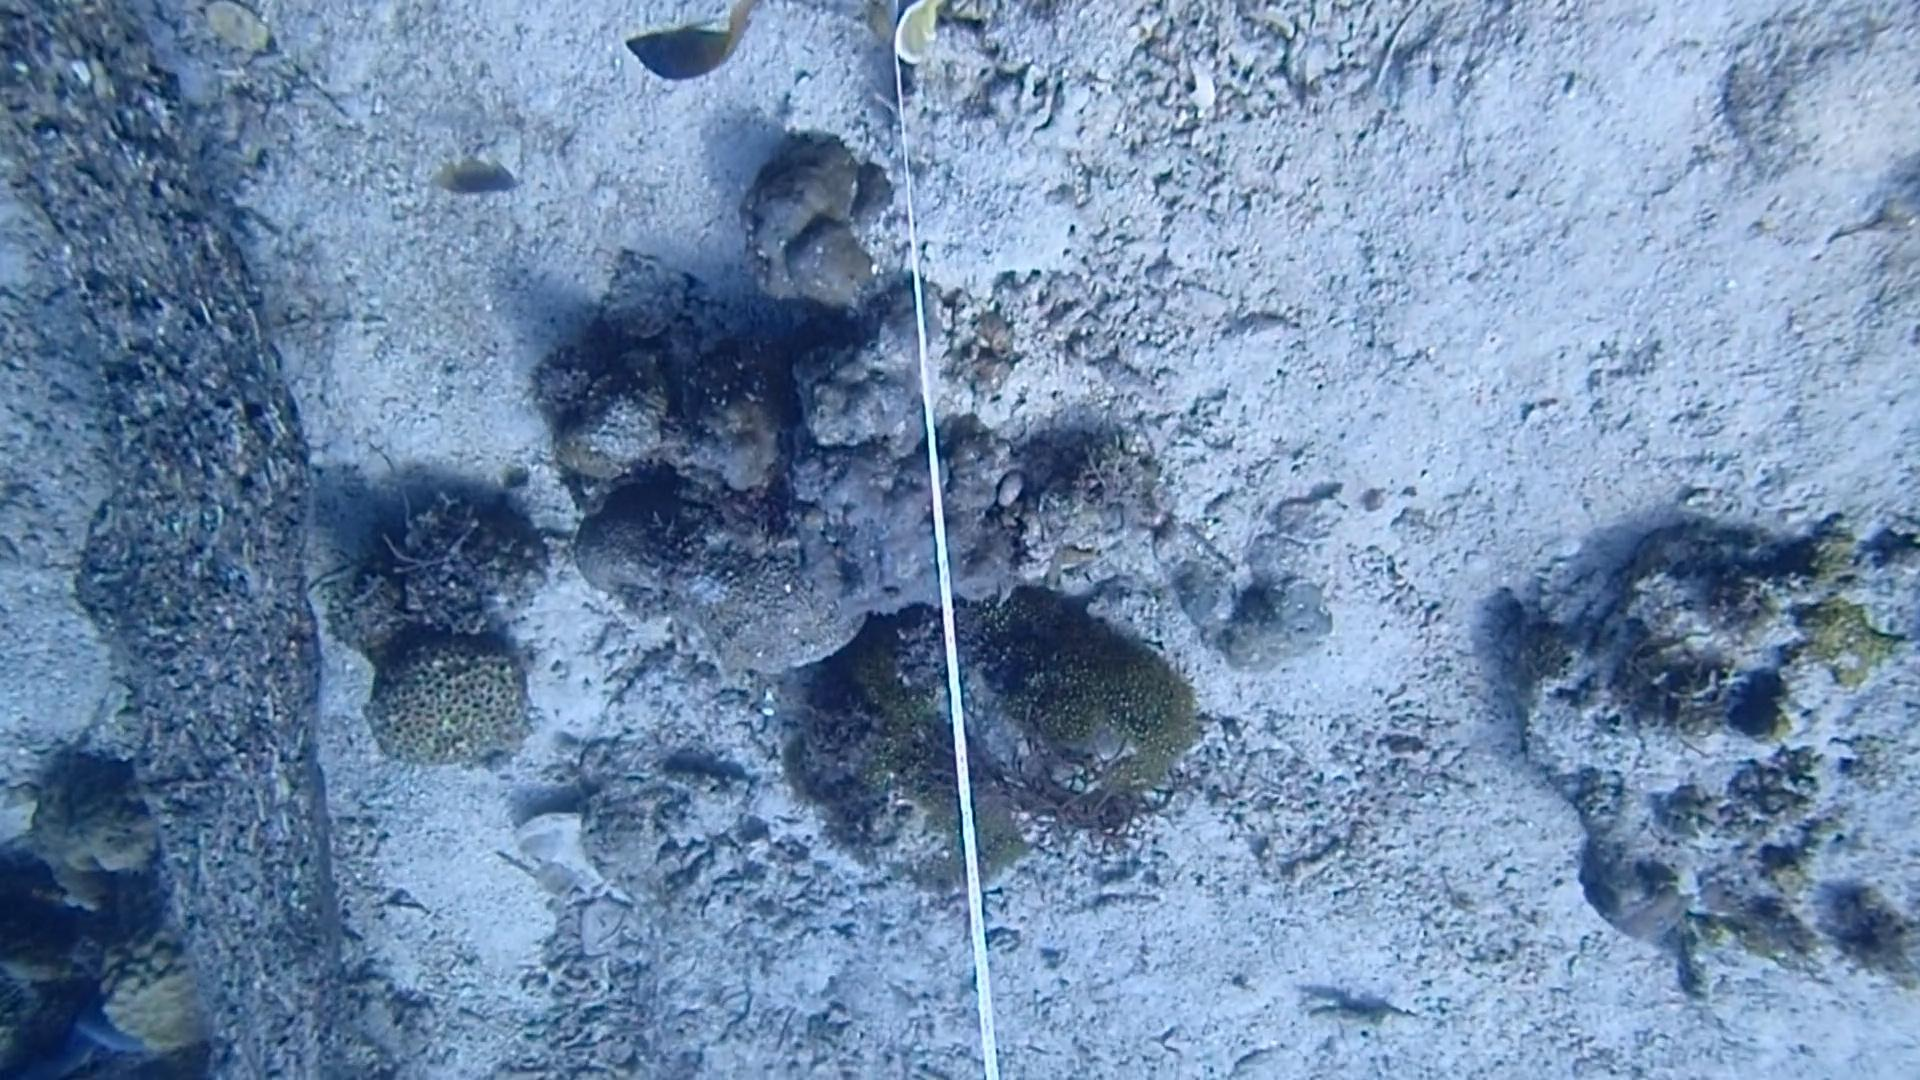Light Fish: (429, 145, 535, 210)
Yellow-Blue Fish: (626, 3, 764, 92)
